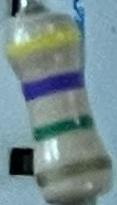Blue: (23, 69, 85, 99)
Green: (33, 112, 95, 142)
Side-Silver: (36, 155, 113, 191)
Yellow: (7, 26, 82, 61)
